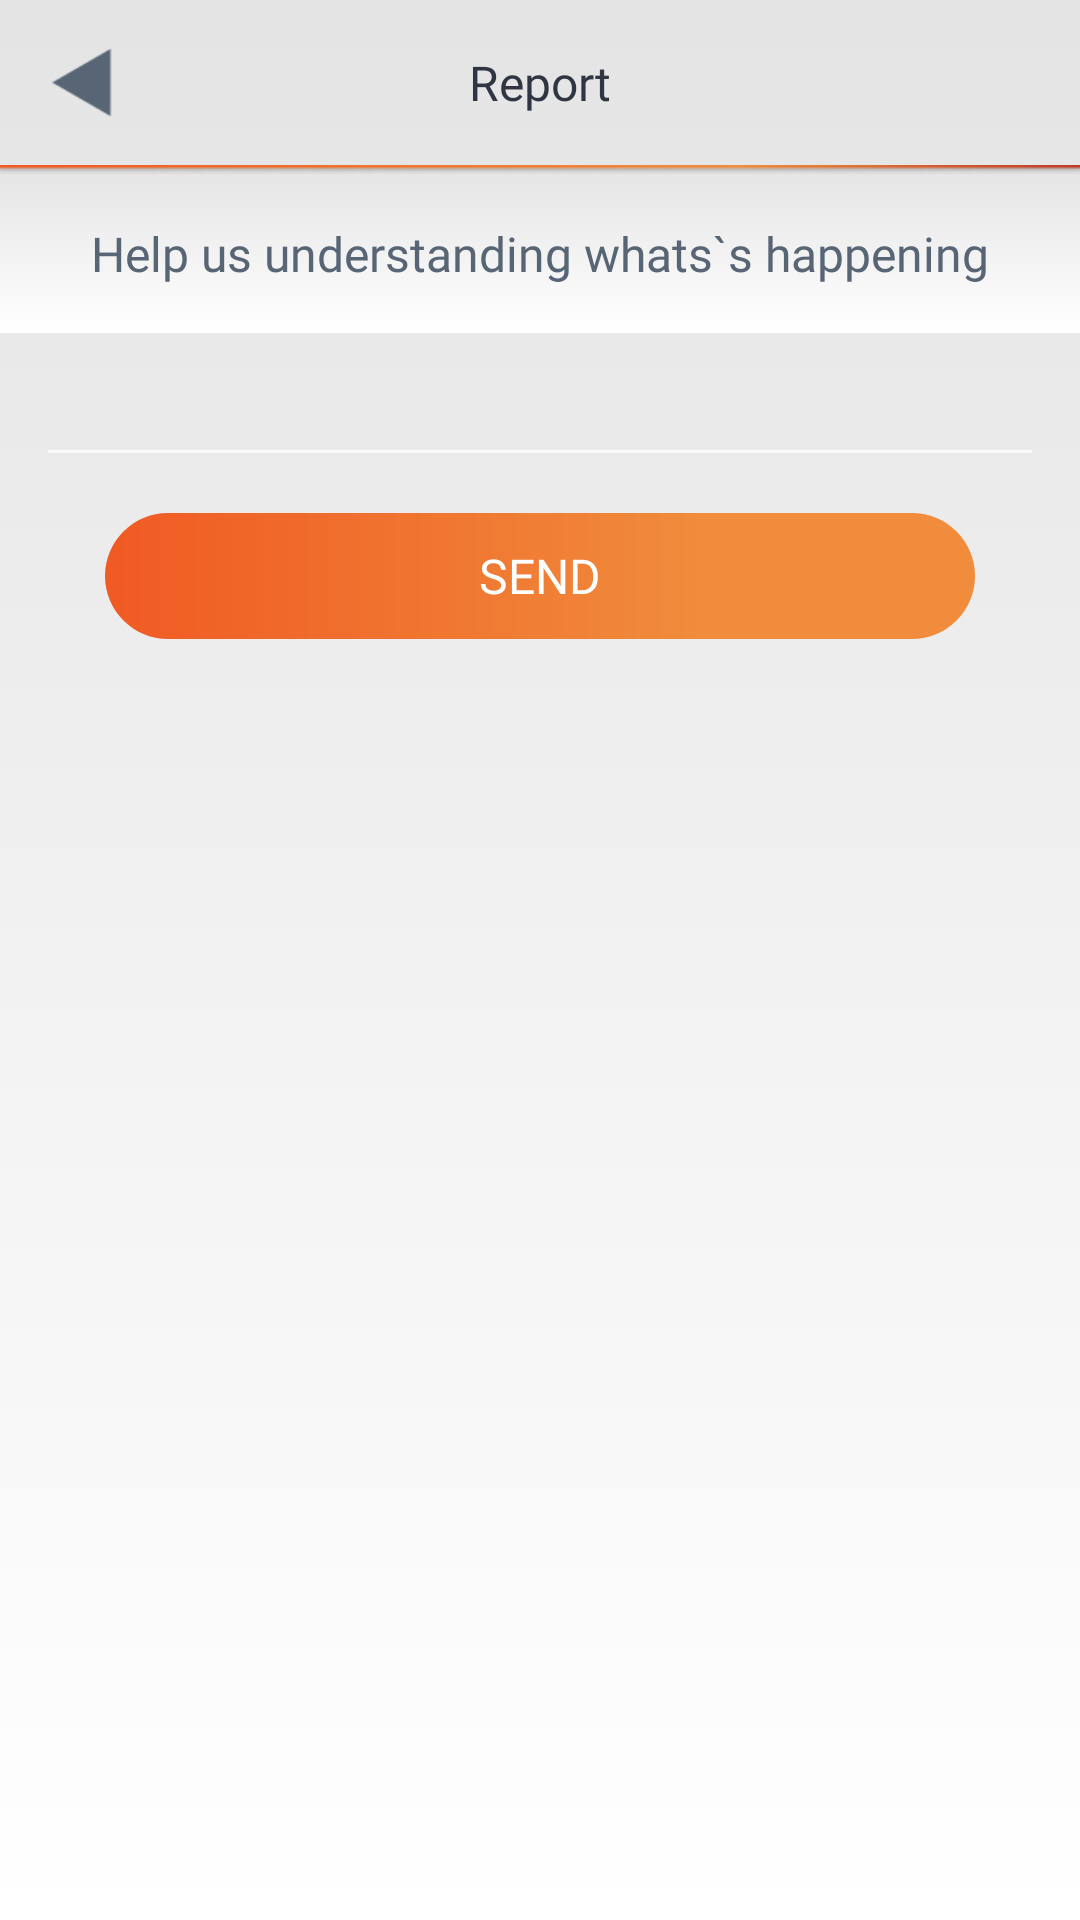

Where icons sit on this 1080px x 1920px app screen, as (x1, y1, x2, y2):
setting back: (52, 49, 111, 116)
